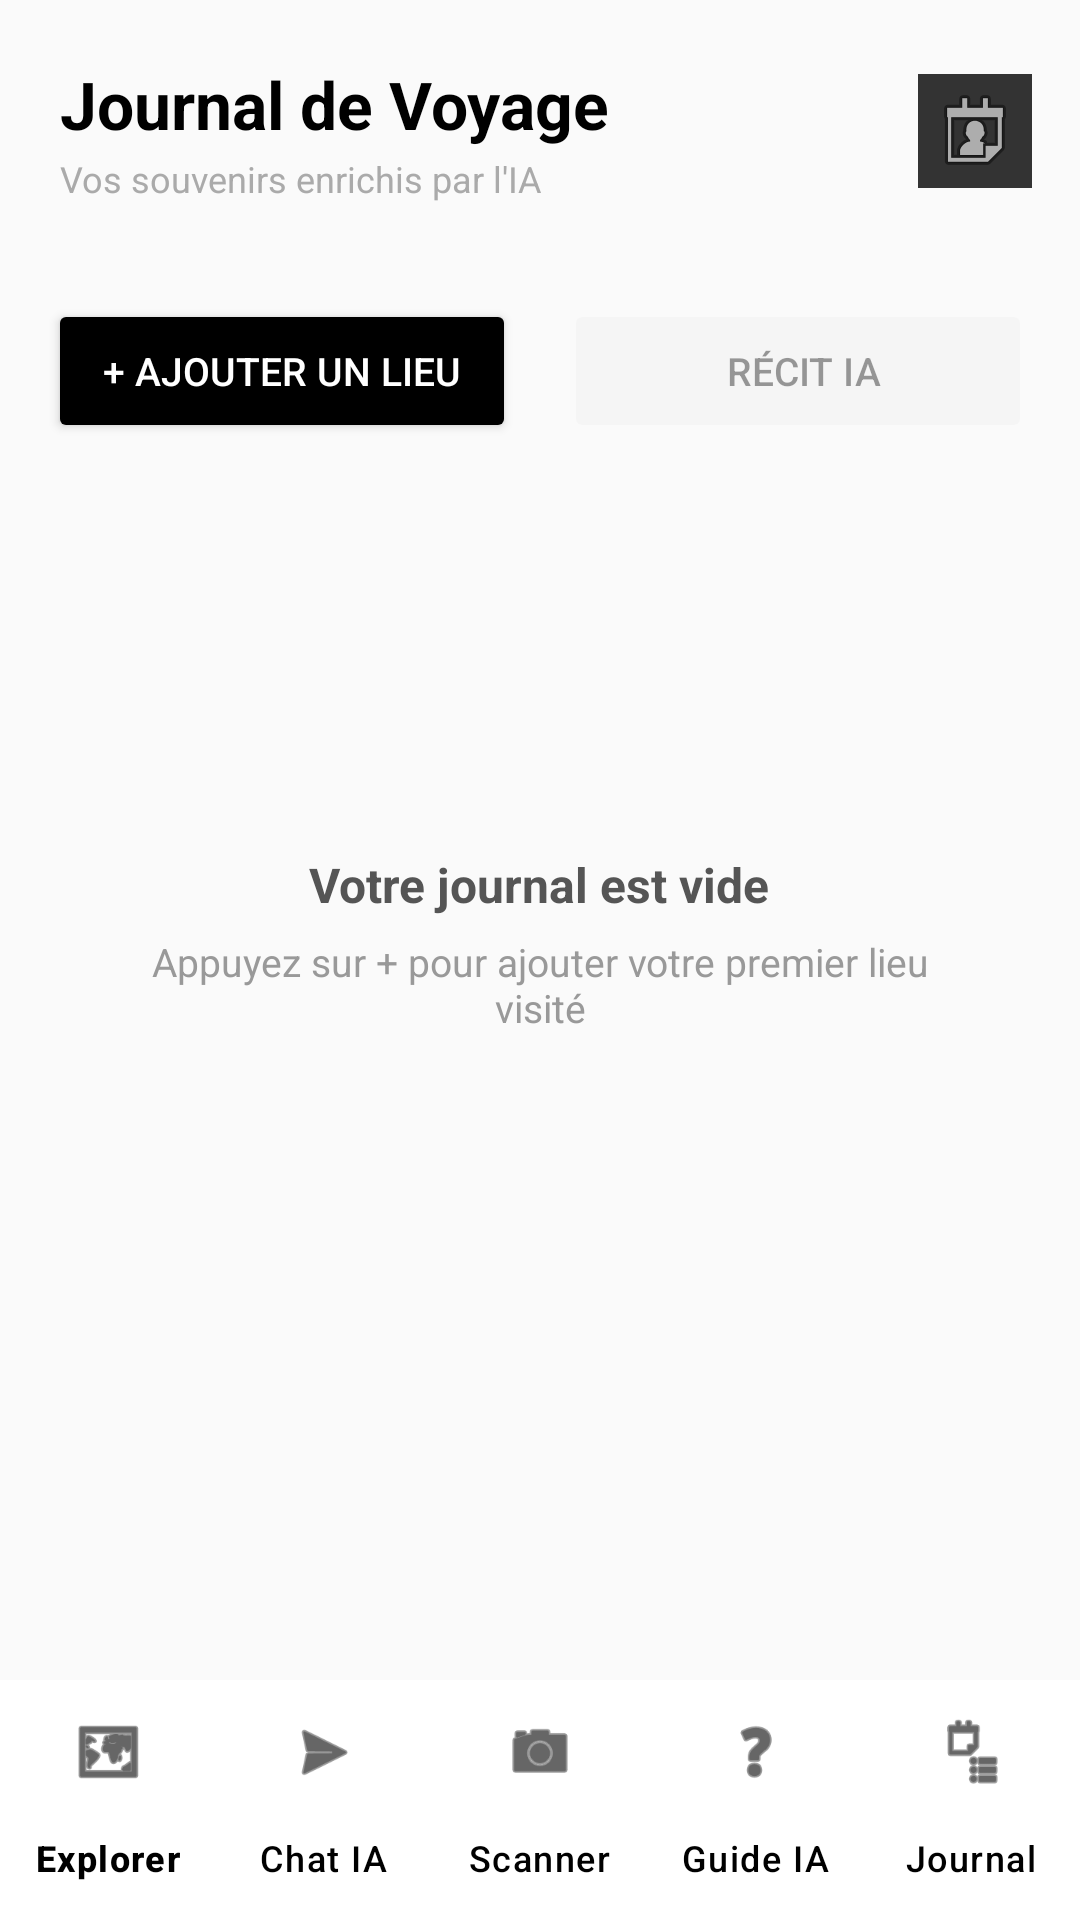

Screen size 1080 x 1920. Icon name, then its box in pixels as (x1, y1, x2, y2):
Profil: (918, 74, 1032, 188)
